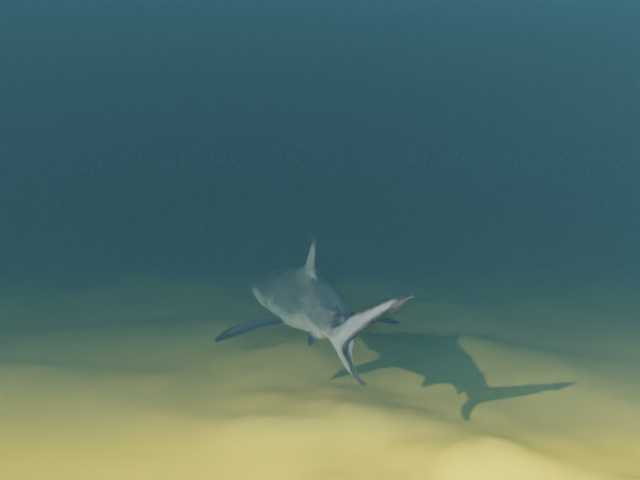Carribean Shark.001: (214, 237, 413, 388)
